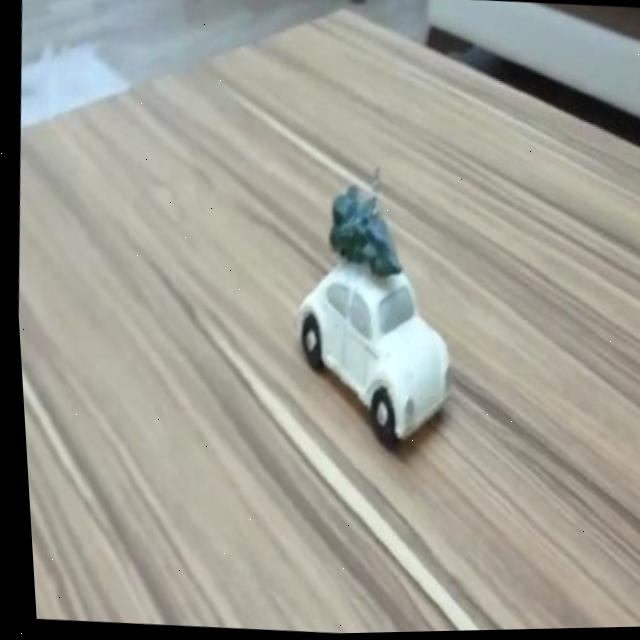vehicle: (281, 262, 457, 440)
